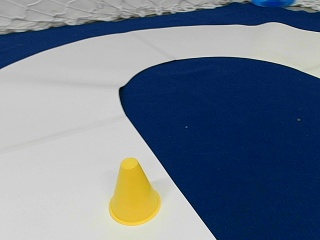cone: (109, 161, 159, 224)
